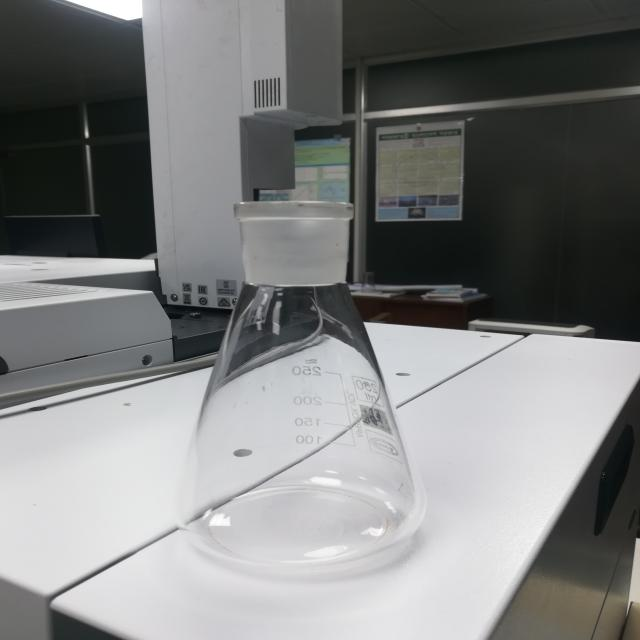Conical_Flask: (130, 164, 483, 596)
